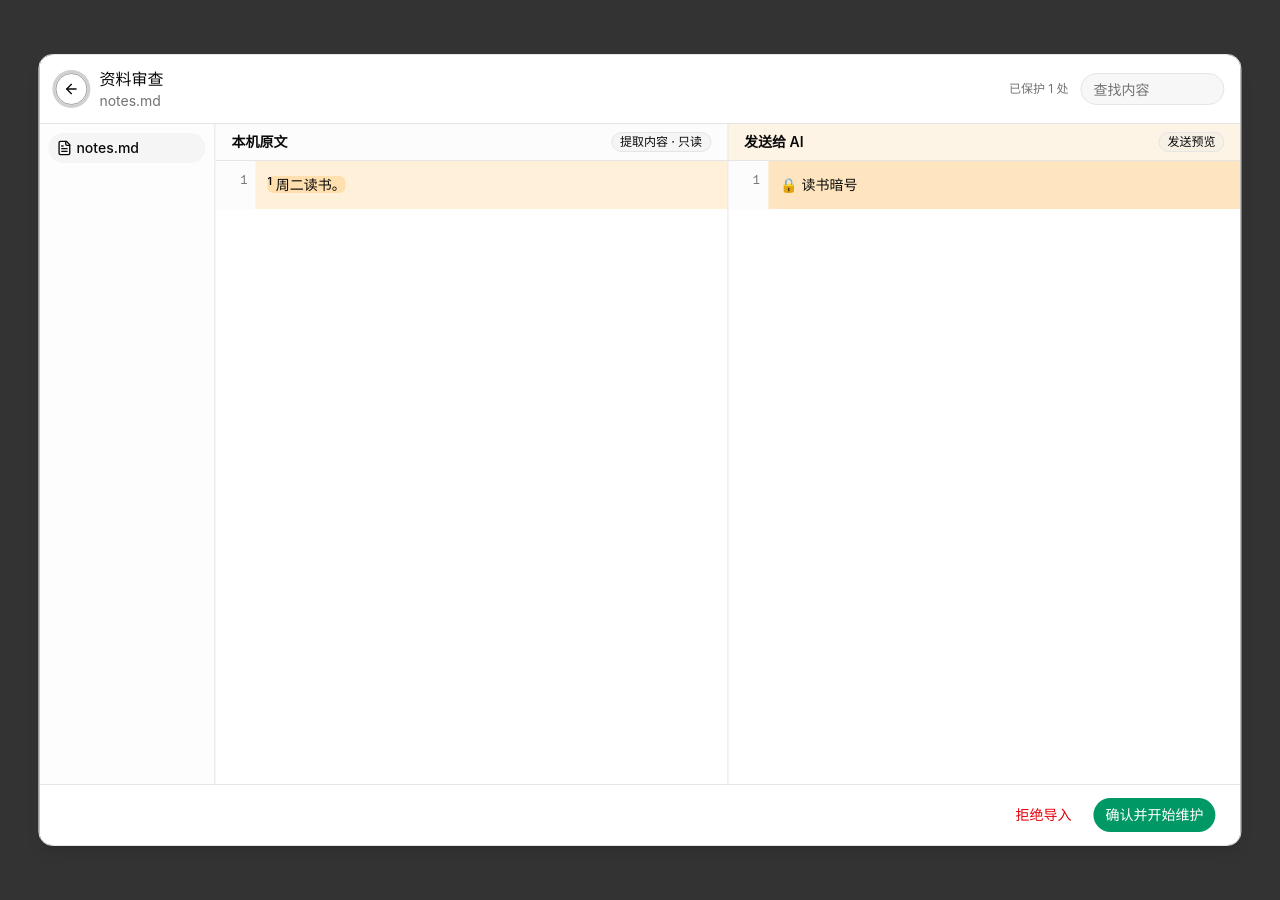
it: changing a name keeps focus and rejects an empty name
Click the button "1周二读书。": [307, 184] box [255,161,727,209]
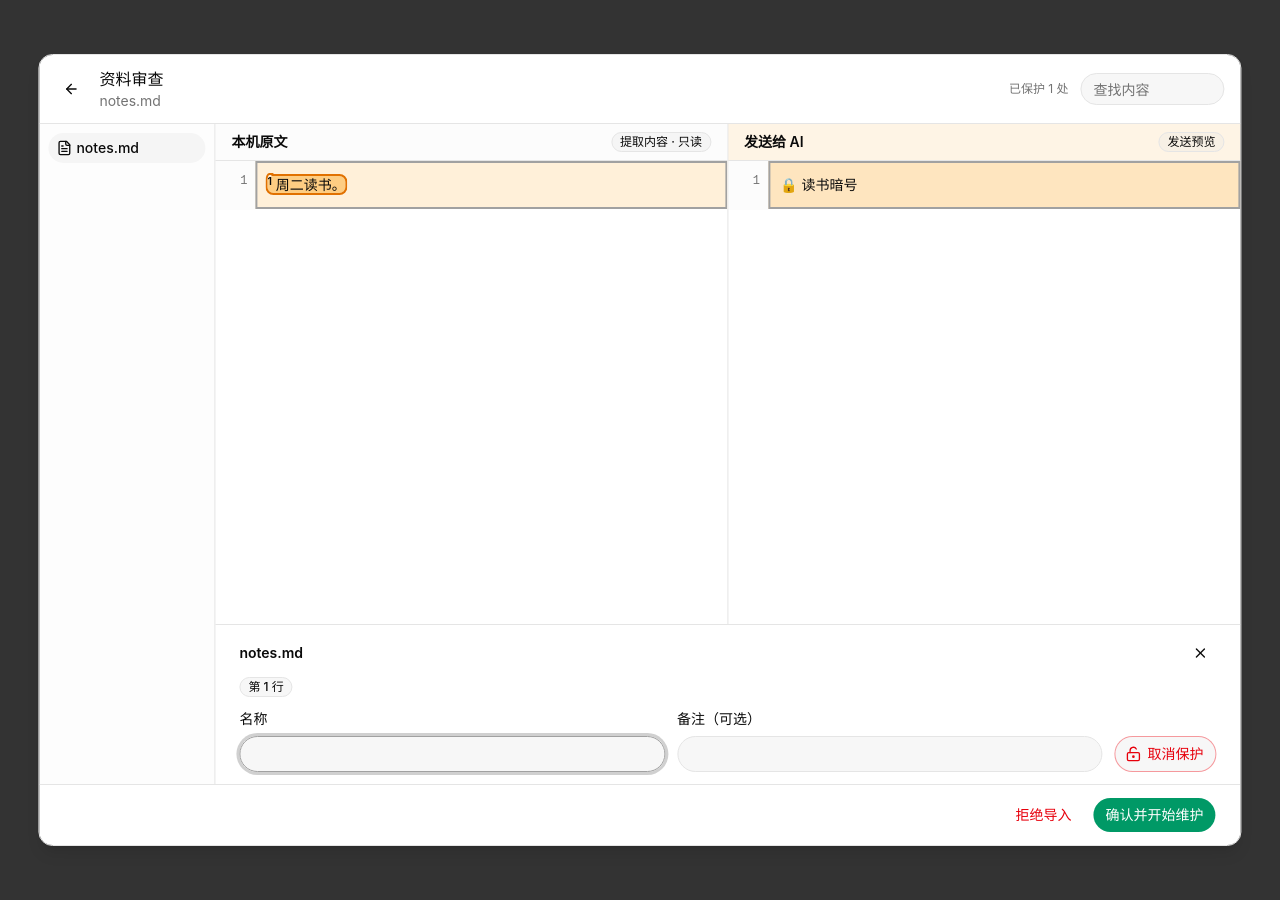
Clear the field with id "secret-name": [452, 754] box [239,736,665,772]
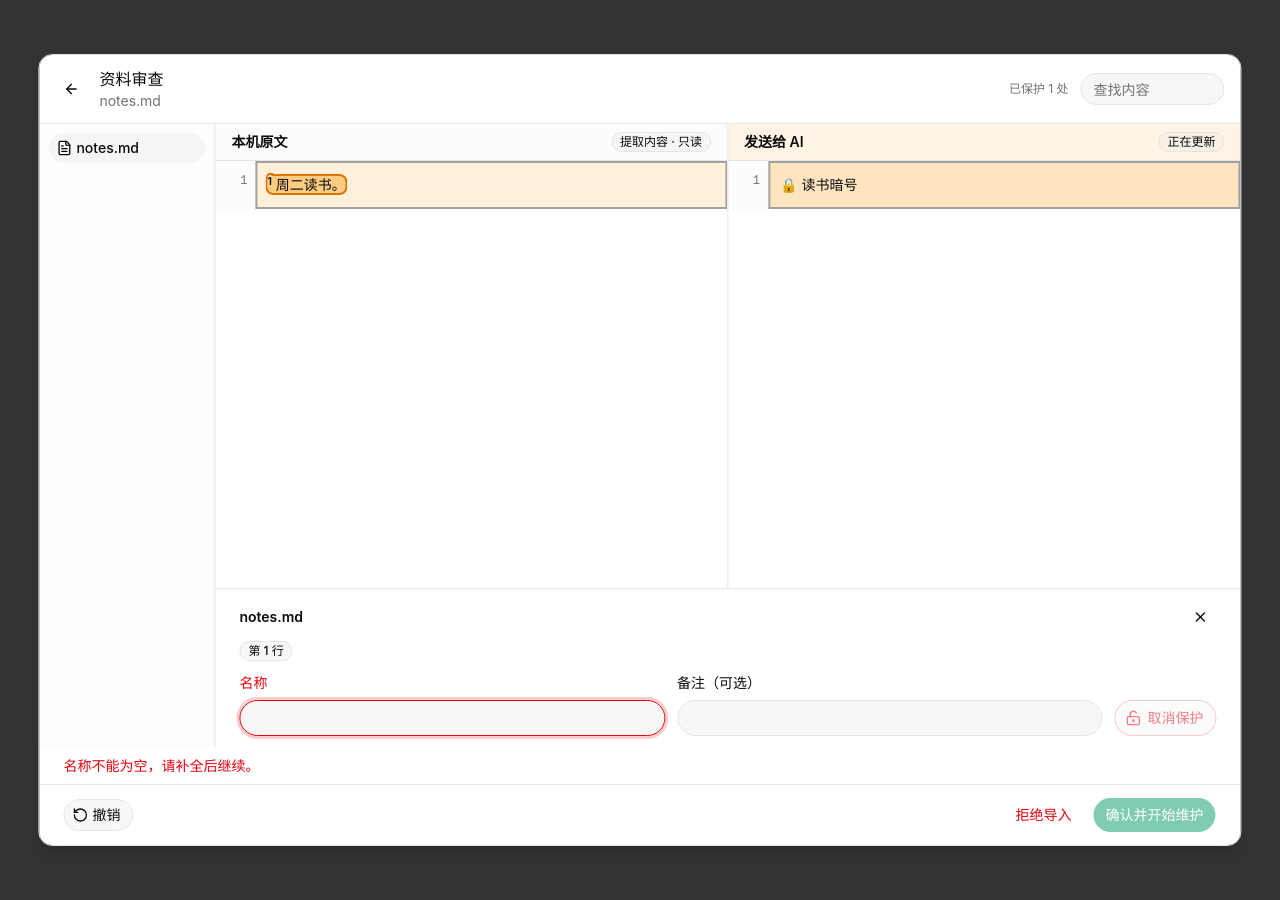
Check: the button "确认并开始维护" is disabled, box [1093,797,1217,833]
Check: the text "名称不能为空" is shown, box [63,757,259,774]
